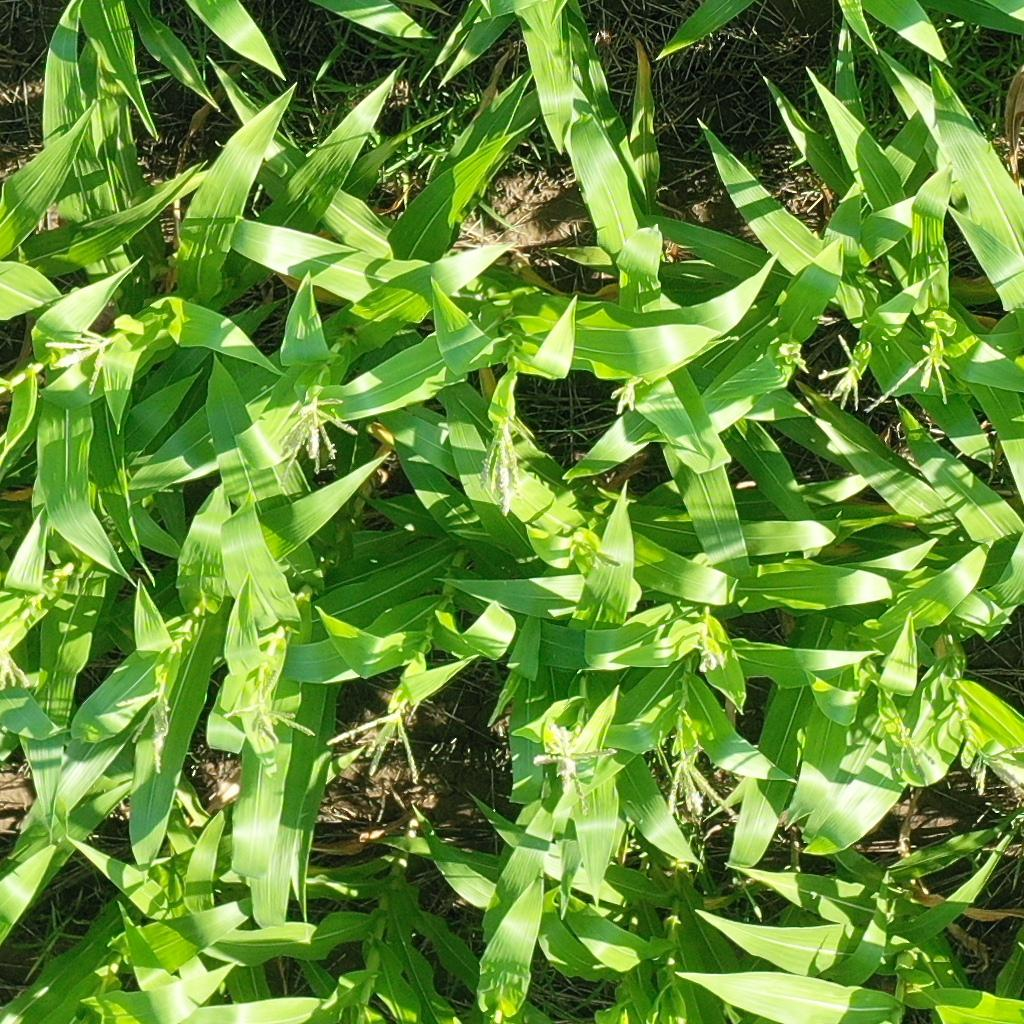Tassel: (222, 661, 321, 749), (531, 723, 619, 816), (327, 707, 428, 785), (280, 396, 360, 485), (665, 742, 742, 827), (864, 342, 954, 414), (111, 682, 174, 775), (474, 417, 529, 519), (42, 328, 119, 393), (817, 332, 869, 417), (972, 744, 1024, 797), (890, 723, 937, 780), (566, 532, 613, 573), (606, 375, 647, 419), (1, 641, 31, 696), (692, 636, 731, 676), (779, 344, 808, 377)
